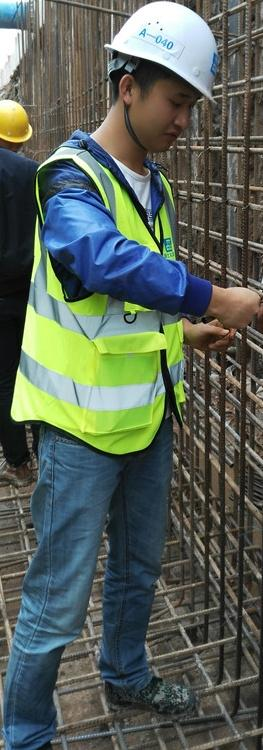boots: (104, 675, 198, 715), (0, 457, 34, 488)
hard-hat: (0, 95, 29, 156)
vest: (9, 128, 213, 455)
